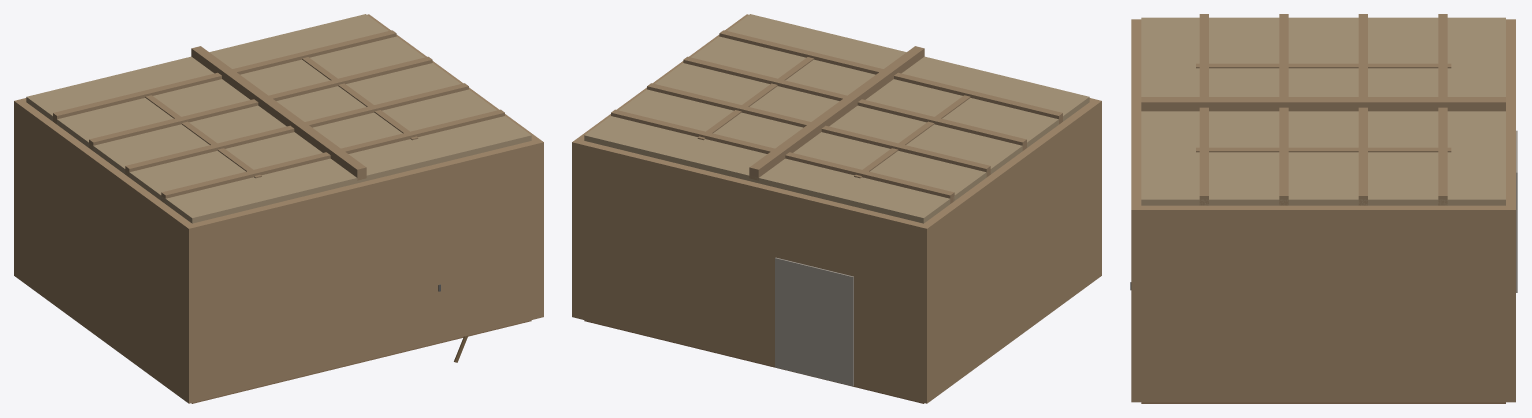
File: cabin_main_room.glb
The picture shows the model from 3 angles, left to right: view 1: azimuth 30°, elevation 25°; view 2: azimuth 150°, elevation 25°; view 3: azimuth 270°, elevation 25°; orthographic projection. The views are drawn at different scales.
Parts seen in each view (by area): view 1: cabin_wall_south, cabin_ceiling, cabin_wall_west, cabin_beam_ridge, cabin_beam_cross_2, cabin_beam_cross_3, cabin_beam_cross_4, cabin_beam_cross_1, cabin_wall_north, cabin_beam_rafter_1, cabin_beam_rafter_2, cabin_floor; view 2: cabin_wall_north, cabin_ceiling, cabin_wall_west, furniture_fireplace_surround, cabin_beam_ridge, cabin_beam_cross_3, cabin_beam_cross_2, cabin_beam_cross_4, cabin_beam_cross_1, cabin_wall_south, cabin_beam_rafter_1, cabin_beam_rafter_2 (+1 smaller); view 3: cabin_wall_east, cabin_ceiling, cabin_beam_ridge, cabin_wall_south, cabin_wall_north, cabin_beam_cross_2, cabin_beam_cross_4, cabin_beam_cross_1, cabin_beam_cross_3, cabin_beam_rafter_1, cabin_beam_rafter_2, cabin_floor.
Boxes of the visible parts, left/top/right/bottom form: cabin_wall_south: left=184, top=139, right=543, bottom=403; cabin_ceiling: left=26, top=14, right=531, bottom=223; cabin_wall_west: left=18, top=102, right=191, bottom=399; cabin_beam_ridge: left=191, top=46, right=366, bottom=180; cabin_beam_cross_2: left=125, top=83, right=468, bottom=177; cabin_beam_cross_3: left=89, top=56, right=432, bottom=150; cabin_beam_cross_4: left=53, top=30, right=396, bottom=124; cabin_beam_cross_1: left=161, top=109, right=504, bottom=203; cabin_wall_north: left=14, top=14, right=373, bottom=278; cabin_beam_rafter_1: left=145, top=95, right=261, bottom=178; cabin_beam_rafter_2: left=302, top=57, right=418, bottom=140; cabin_floor: left=191, top=320, right=531, bottom=403; cabin_wall_north: left=572, top=139, right=931, bottom=403; cabin_ceiling: left=584, top=14, right=1089, bottom=223; cabin_wall_west: left=924, top=102, right=1097, bottom=399; furniture_fireplace_surround: left=775, top=257, right=853, bottom=386; cabin_beam_ridge: left=749, top=46, right=924, bottom=180; cabin_beam_cross_3: left=647, top=83, right=990, bottom=177; cabin_beam_cross_2: left=683, top=56, right=1026, bottom=150; cabin_beam_cross_4: left=611, top=109, right=954, bottom=203; cabin_beam_cross_1: left=719, top=30, right=1062, bottom=124; cabin_wall_south: left=742, top=14, right=1101, bottom=278; cabin_beam_rafter_1: left=854, top=95, right=970, bottom=178; cabin_beam_rafter_2: left=697, top=57, right=813, bottom=140; cabin_wall_east: left=1141, top=205, right=1505, bottom=402; cabin_ceiling: left=1141, top=17, right=1505, bottom=205; cabin_beam_ridge: left=1141, top=97, right=1505, bottom=111; cabin_wall_south: left=1131, top=19, right=1141, bottom=402; cabin_wall_north: left=1506, top=19, right=1515, bottom=402; cabin_beam_cross_2: left=1279, top=14, right=1288, bottom=205; cabin_beam_cross_4: left=1438, top=14, right=1447, bottom=205; cabin_beam_cross_1: left=1199, top=14, right=1208, bottom=205; cabin_beam_cross_3: left=1358, top=14, right=1367, bottom=205; cabin_beam_rafter_1: left=1196, top=63, right=1451, bottom=68; cabin_beam_rafter_2: left=1196, top=147, right=1451, bottom=152; cabin_floor: left=1141, top=402, right=1505, bottom=403.
Size of the model in its own units: 6.8 by 3.91 by 5.84.
